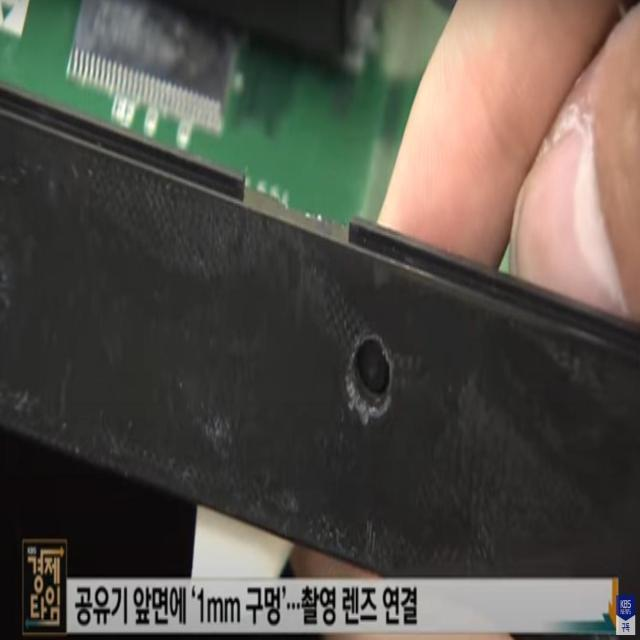hidden camera: (355, 339, 391, 398)
